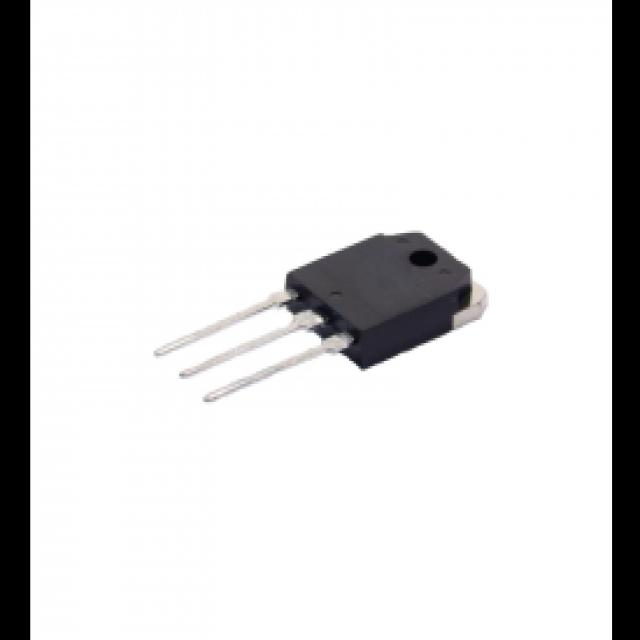Transistor: (159, 225, 485, 412)
